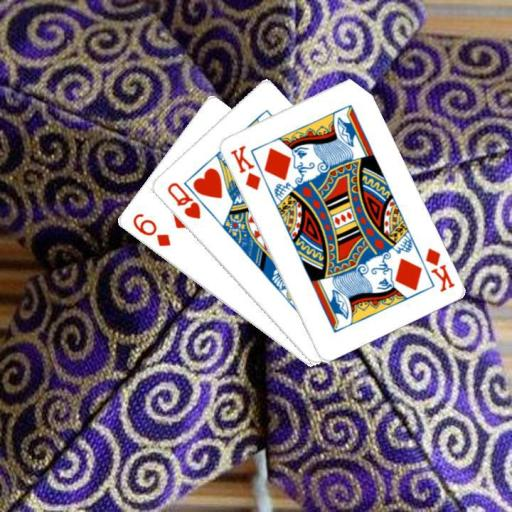6D: (129, 210, 172, 248)
KD: (227, 142, 262, 192), (422, 245, 456, 294)
QH: (164, 179, 202, 221)
